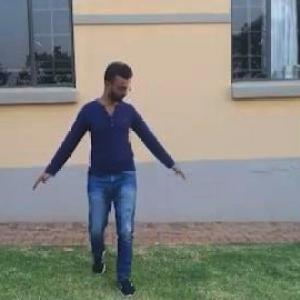land: (29, 47, 213, 283)
